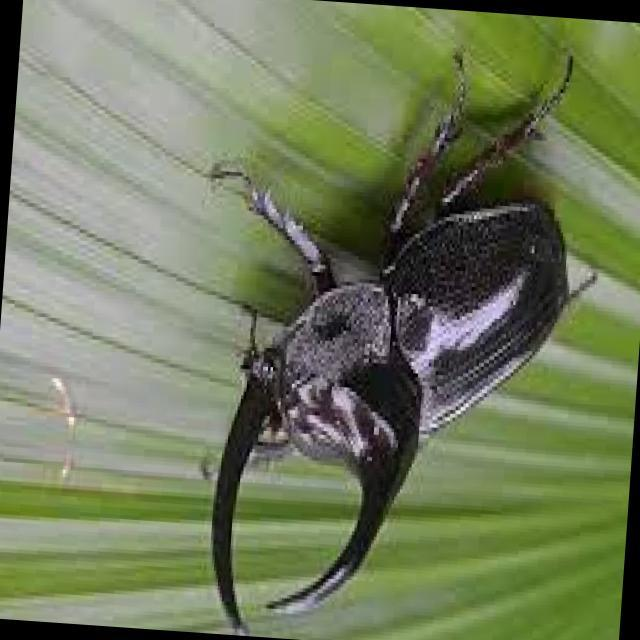Red-palm-weevil: (202, 105, 540, 605)
